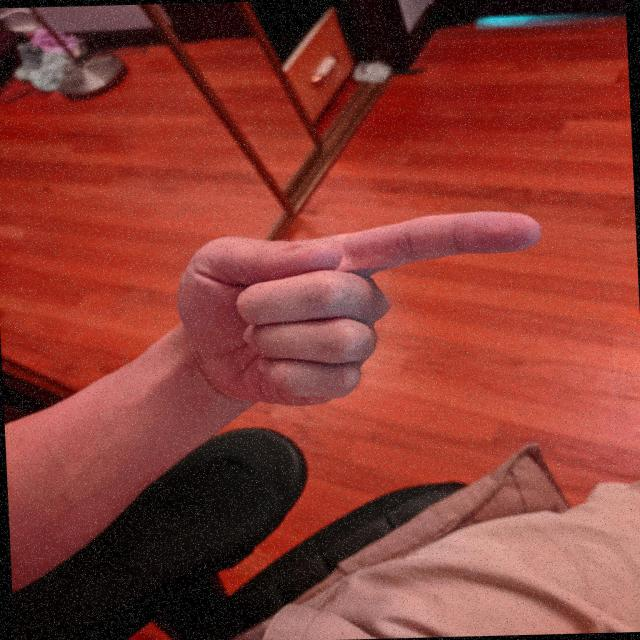G: (169, 204, 562, 414)
